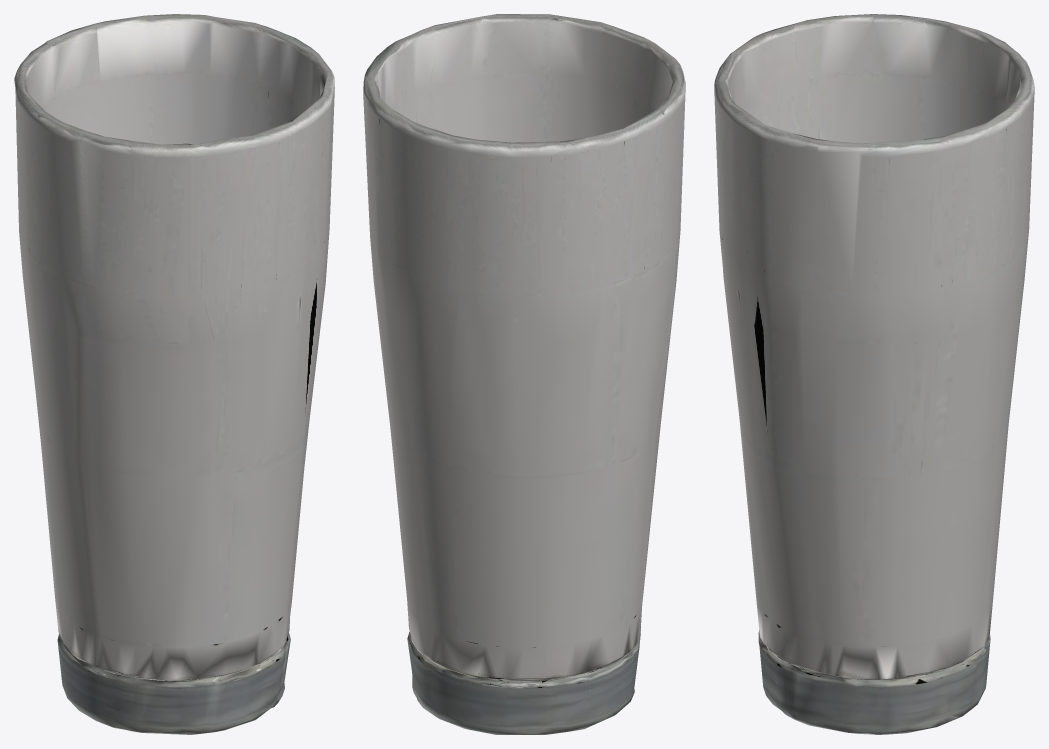
File: mobile.glb
3 renders of one model, left to right at view 1: azimuth 30°, elevation 25°; view 2: azimuth 150°, elevation 25°; view 3: azimuth 270°, elevation 25°, orthographic.
Parts seen in each view (by area): view 1: pintglass; view 2: pintglass; view 3: pintglass.
Boxes of the visible parts, x1=… form: pintglass: x1=14, y1=14, x2=334, y2=734; pintglass: x1=363, y1=14, x2=685, y2=734; pintglass: x1=714, y1=14, x2=1034, y2=734.
Size of the model in its own units: 0.0713 by 0.1501 by 0.0713.
1 material, 1 textured.
